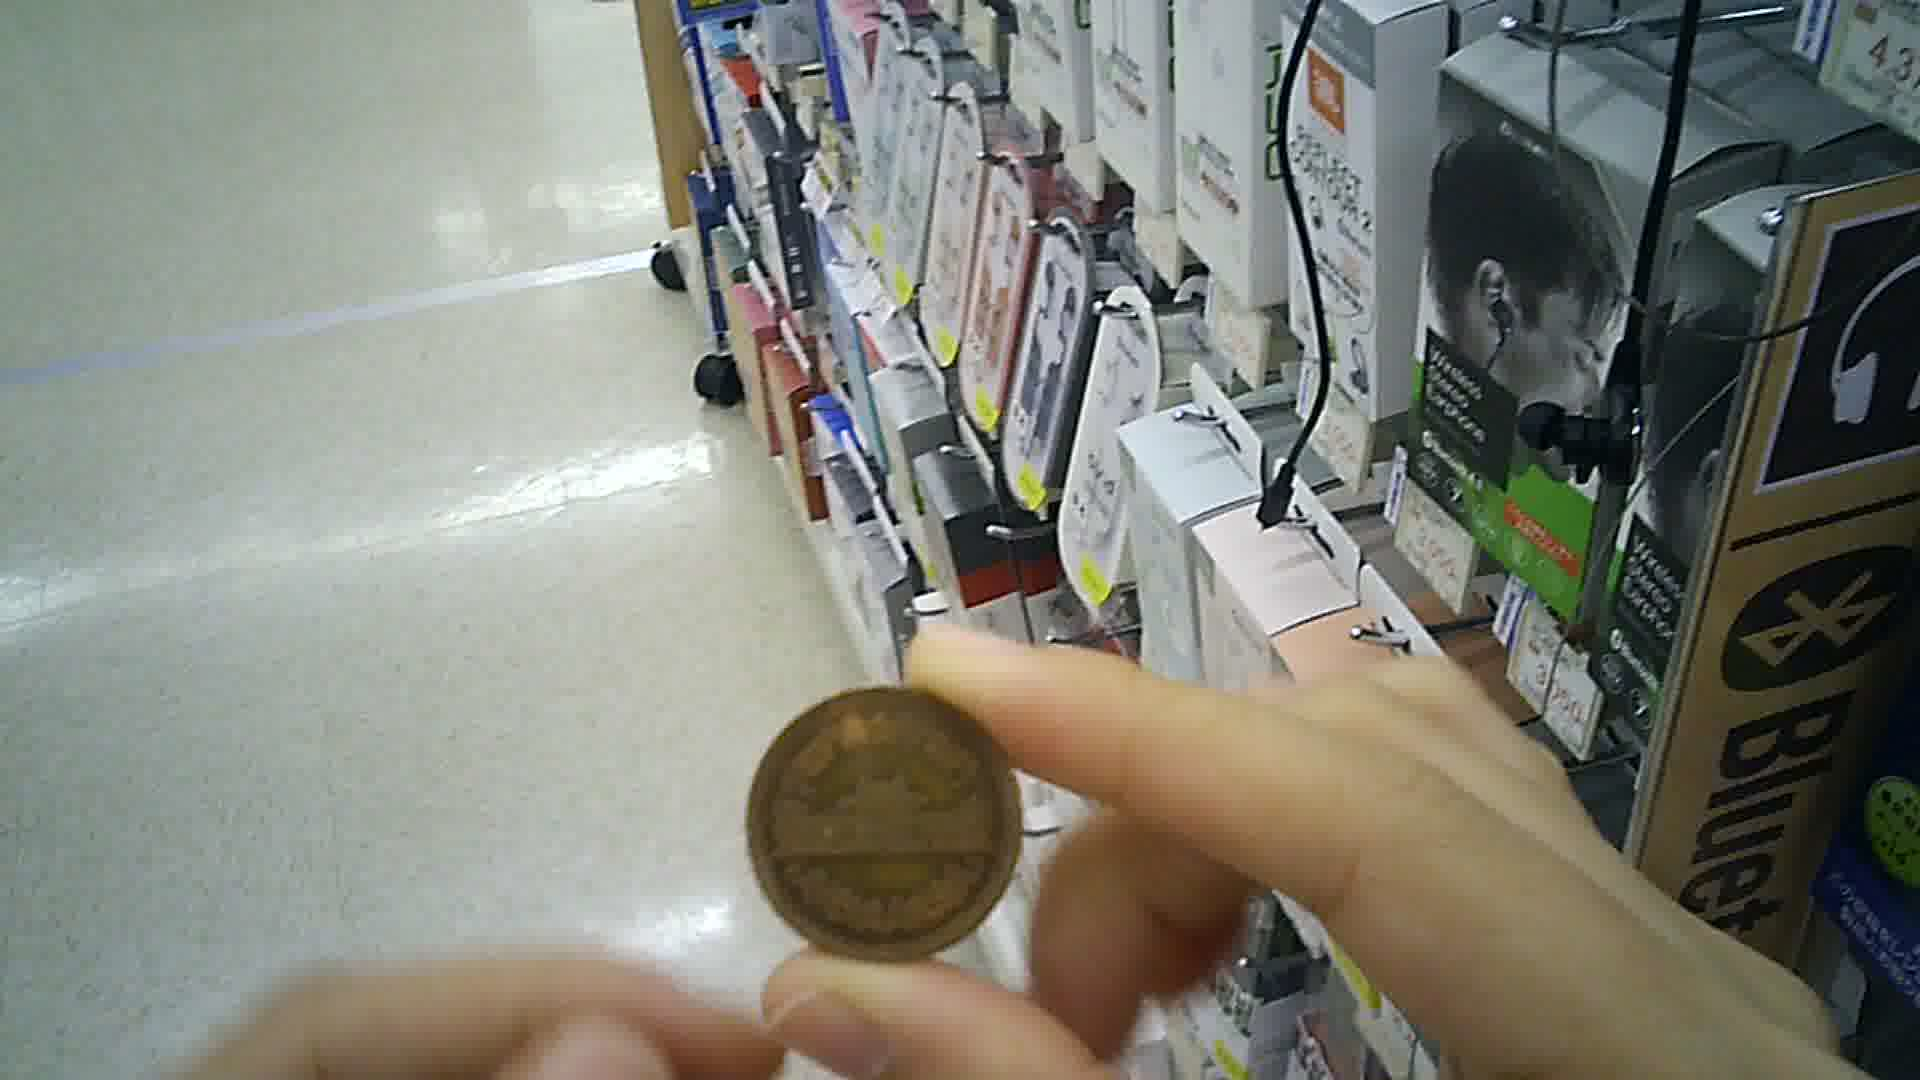10 Yen: (741, 683, 1039, 961)
